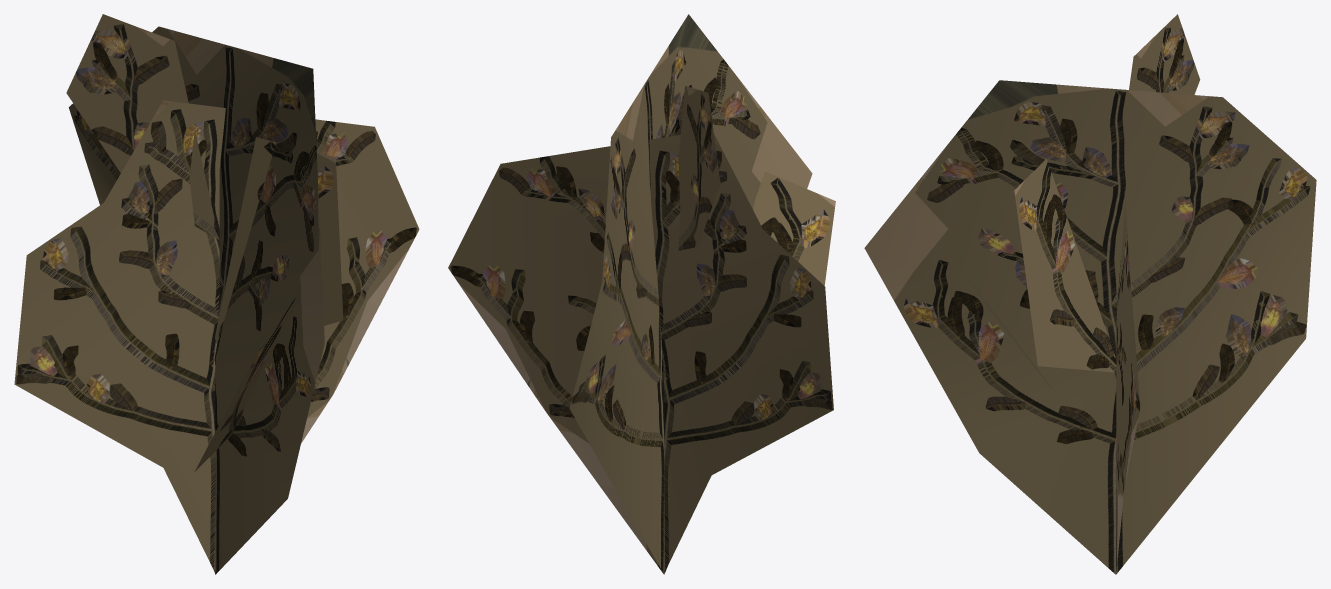
Rendered from SM_Rapseed_01a.fbx.
3 renders of one model, left to right at view 1: azimuth 30°, elevation 25°; view 2: azimuth 150°, elevation 25°; view 3: azimuth 270°, elevation 25°, orthographic. The views are drawn at different scales.
Parts seen in each view (by area): view 1: SM_Rapseed_01a_LOD0; view 2: SM_Rapseed_01a_LOD0; view 3: SM_Rapseed_01a_LOD0.
Boxes of the visible parts, box(x1,y1,x2,y2) form: SM_Rapseed_01a_LOD0: box(14, 14, 419, 574); SM_Rapseed_01a_LOD0: box(448, 14, 835, 574); SM_Rapseed_01a_LOD0: box(864, 14, 1316, 574).
Size of the model in its own units: 77.58 by 79.07 by 101.
